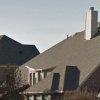Chimney: (81, 2, 100, 44)
